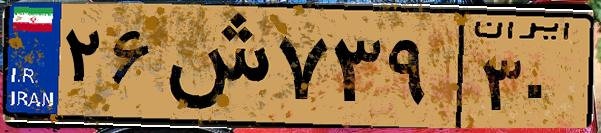0: (525, 38, 570, 115)
2: (57, 26, 110, 100)
3: (330, 28, 385, 110), (475, 38, 525, 113)
6: (110, 28, 158, 98)
7: (270, 28, 330, 110)
9: (385, 28, 445, 110)
ش: (158, 12, 270, 120)
